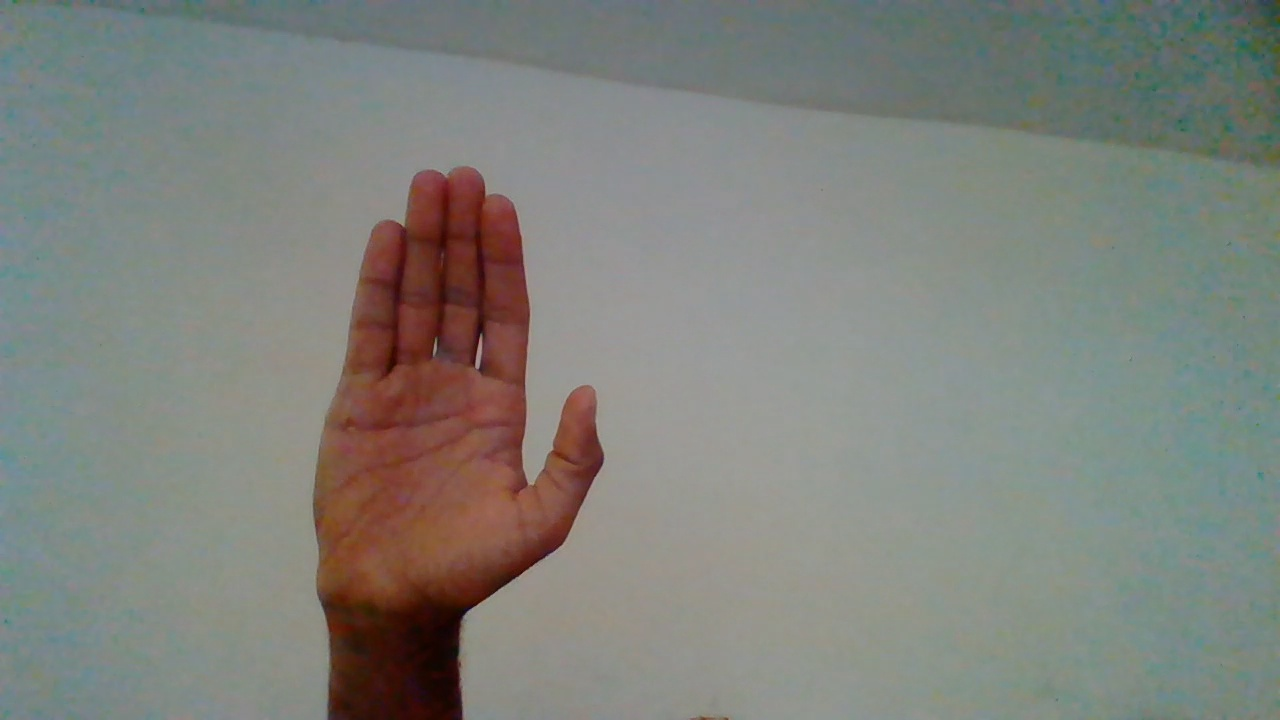ha: (307, 171, 605, 654)
